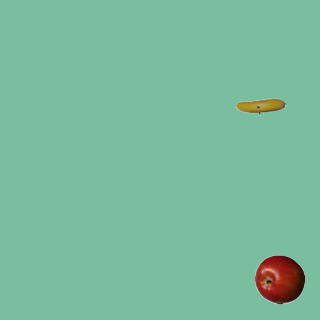Apple Braeburn: (254, 254, 304, 304)
Banana: (235, 81, 285, 131)
